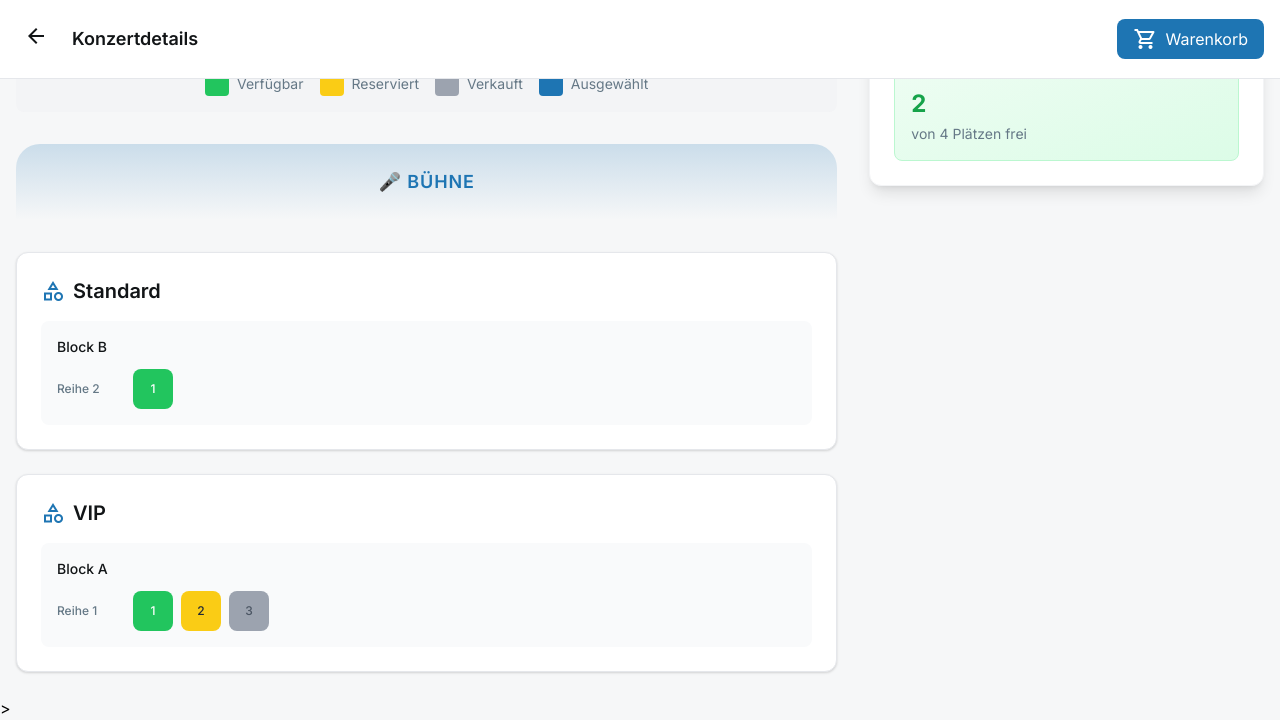
Test case: ConcertDetailPage Component › Seat Map › clicking available seat opens dialog
(page scrolled)
Click the 2nd button titled "Reihe 1, Platz 1 - Verfügbar". click: (153, 611)
box: [133, 591, 173, 631]
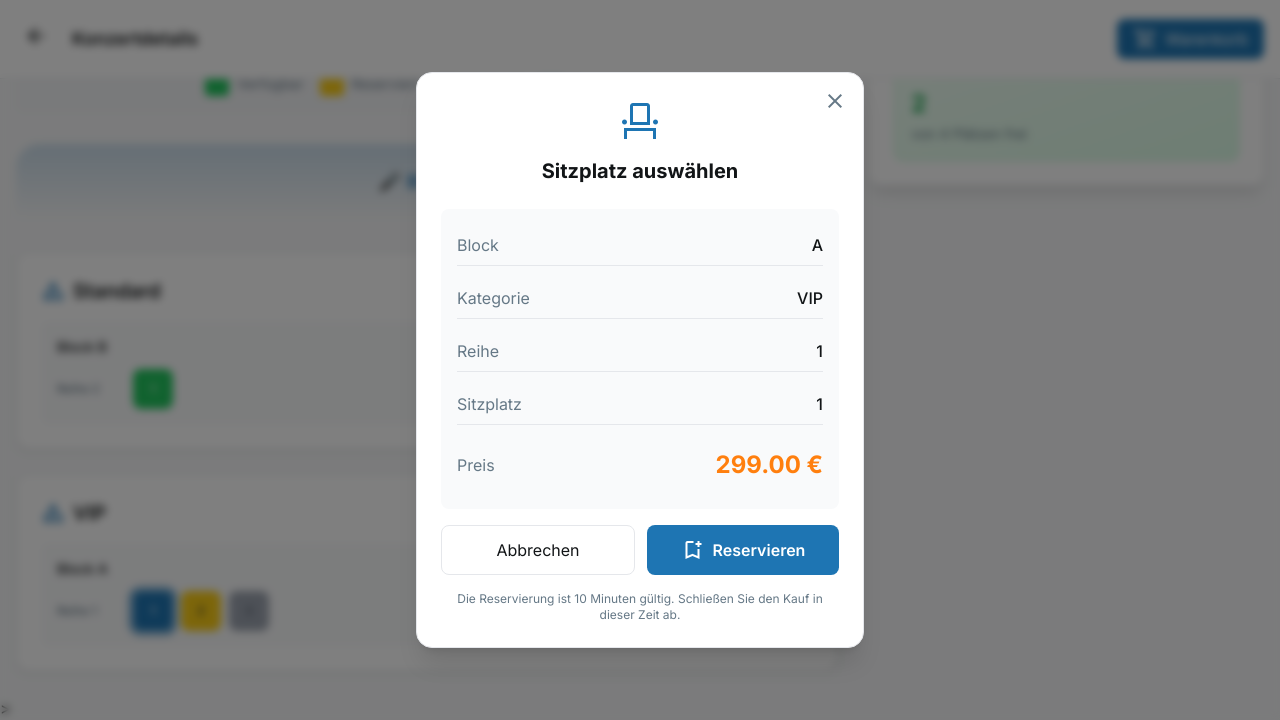
Expected: the heading "Sitzplatz auswählen" is shown, [542, 159, 738, 183]
Expected: the button "Reservieren" is shown, [647, 525, 839, 575]
